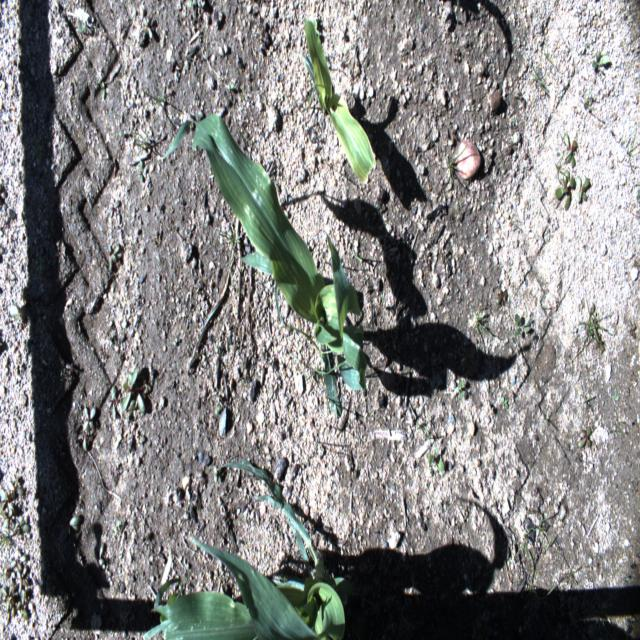crop: (162, 110, 370, 420), (141, 460, 350, 639), (300, 19, 376, 186)
weed: (274, 280, 332, 366), (288, 354, 348, 414), (516, 528, 558, 600), (120, 364, 152, 421), (218, 228, 241, 294), (142, 79, 166, 136), (440, 143, 468, 184), (580, 307, 608, 342), (414, 397, 436, 440), (474, 304, 491, 358), (555, 170, 576, 212), (214, 374, 228, 437), (532, 44, 548, 93), (626, 127, 640, 175), (554, 146, 568, 185), (61, 514, 80, 542), (0, 532, 9, 588), (564, 132, 578, 168), (107, 384, 120, 421), (428, 445, 445, 472), (592, 48, 611, 72), (130, 127, 150, 149), (82, 405, 97, 434), (514, 312, 532, 336), (539, 514, 551, 550), (74, 8, 90, 34), (108, 242, 121, 274), (576, 175, 590, 203), (16, 590, 28, 622), (14, 515, 32, 536), (583, 87, 598, 112), (577, 424, 592, 449), (10, 550, 27, 572), (0, 488, 14, 514), (8, 475, 23, 499), (17, 565, 29, 595), (77, 425, 90, 450), (129, 152, 148, 168), (568, 568, 582, 588), (585, 395, 596, 420), (8, 304, 22, 322), (5, 585, 14, 613), (1, 508, 13, 528), (509, 213, 522, 231), (110, 198, 121, 218), (582, 324, 593, 344), (594, 332, 605, 352), (455, 379, 465, 400), (143, 16, 152, 39), (98, 541, 105, 570), (627, 320, 637, 340), (1, 586, 12, 604), (497, 288, 508, 306), (615, 421, 629, 433), (137, 166, 147, 182), (311, 18, 319, 38), (588, 302, 596, 322), (544, 44, 552, 63), (10, 600, 18, 618), (617, 134, 629, 145), (66, 360, 74, 376), (99, 80, 106, 98), (500, 396, 508, 411), (113, 520, 120, 536), (546, 408, 552, 426), (10, 570, 16, 584), (213, 462, 217, 482), (622, 576, 630, 586), (634, 258, 640, 270), (188, 0, 196, 7), (457, 0, 459, 28), (526, 510, 535, 516), (612, 393, 619, 400), (226, 83, 234, 88)
